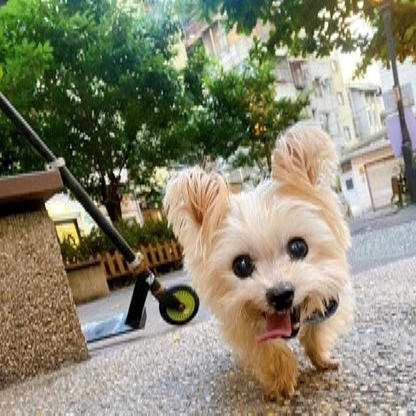yorkshire: (159, 121, 357, 402)
